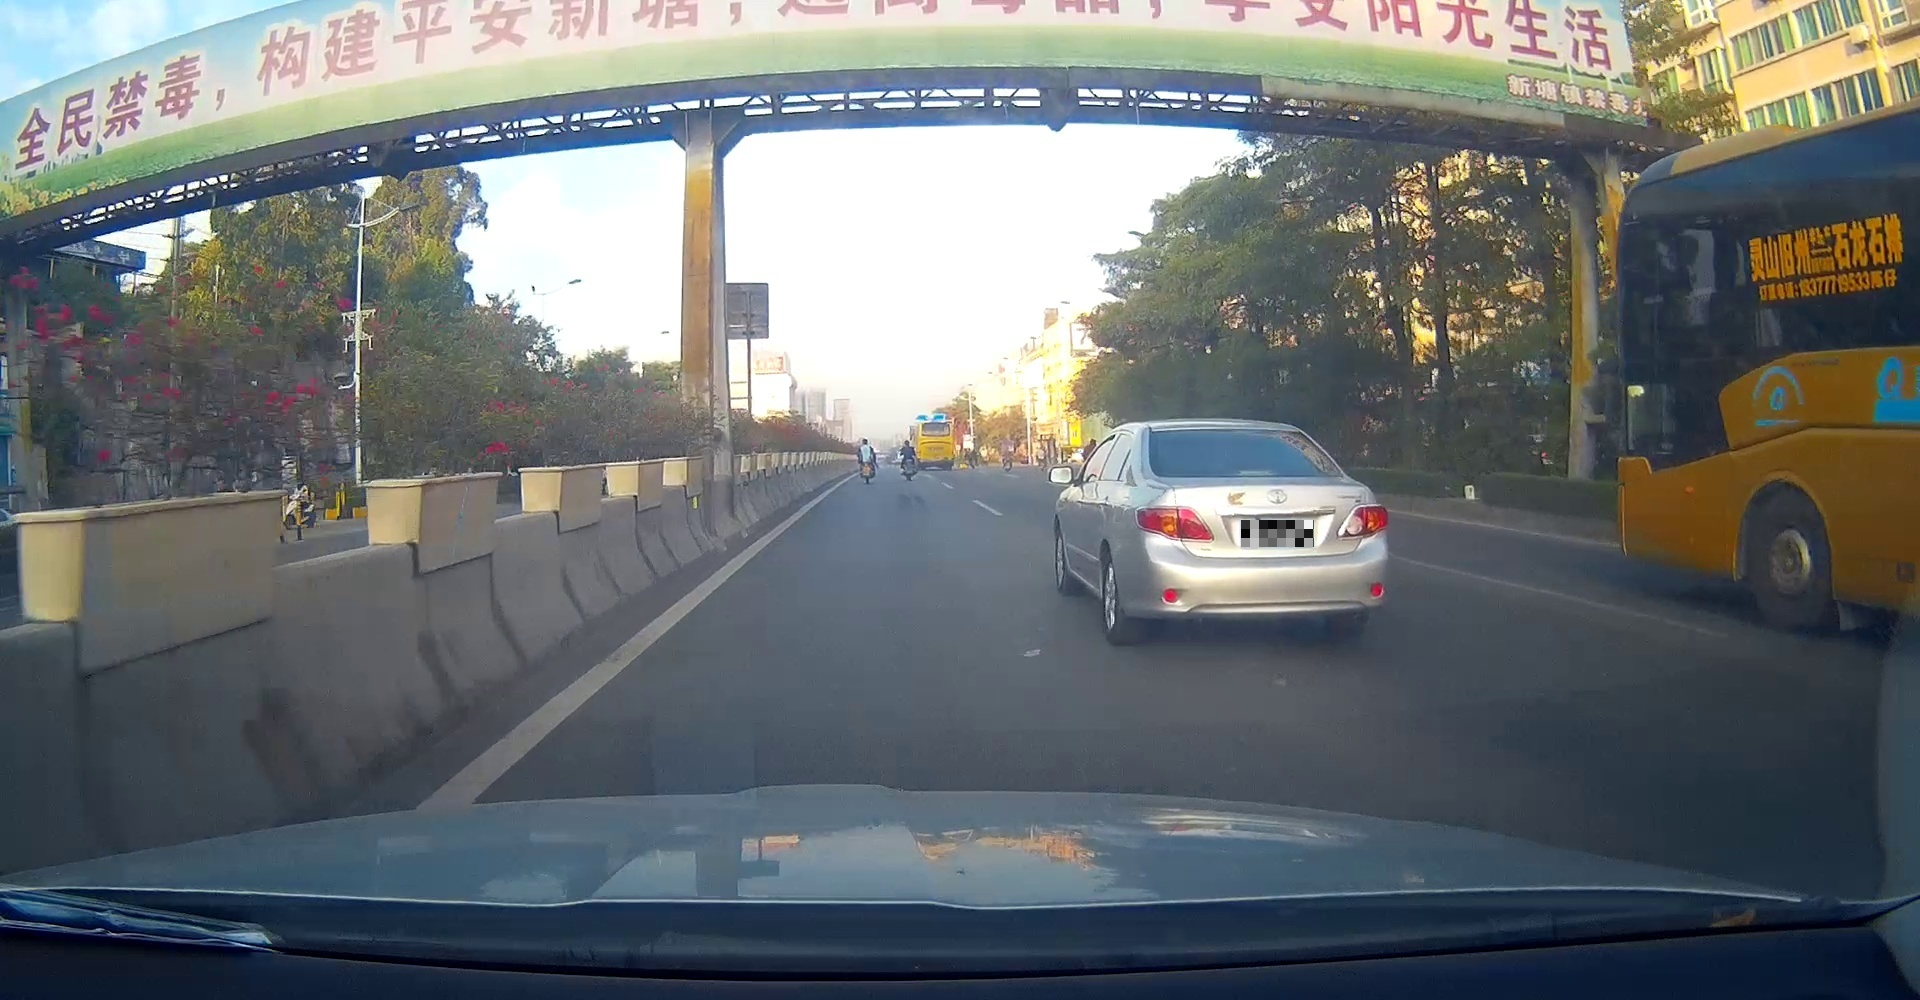L_light: (1134, 506, 1215, 544)
R_light: (1336, 504, 1389, 541)
T_light: (1239, 470, 1275, 476)
day-no: (1130, 420, 1389, 647)
plate_1: (1241, 520, 1314, 547)
